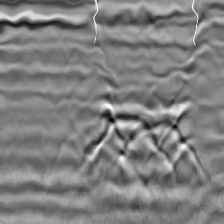Utility: (72, 101, 209, 187)
